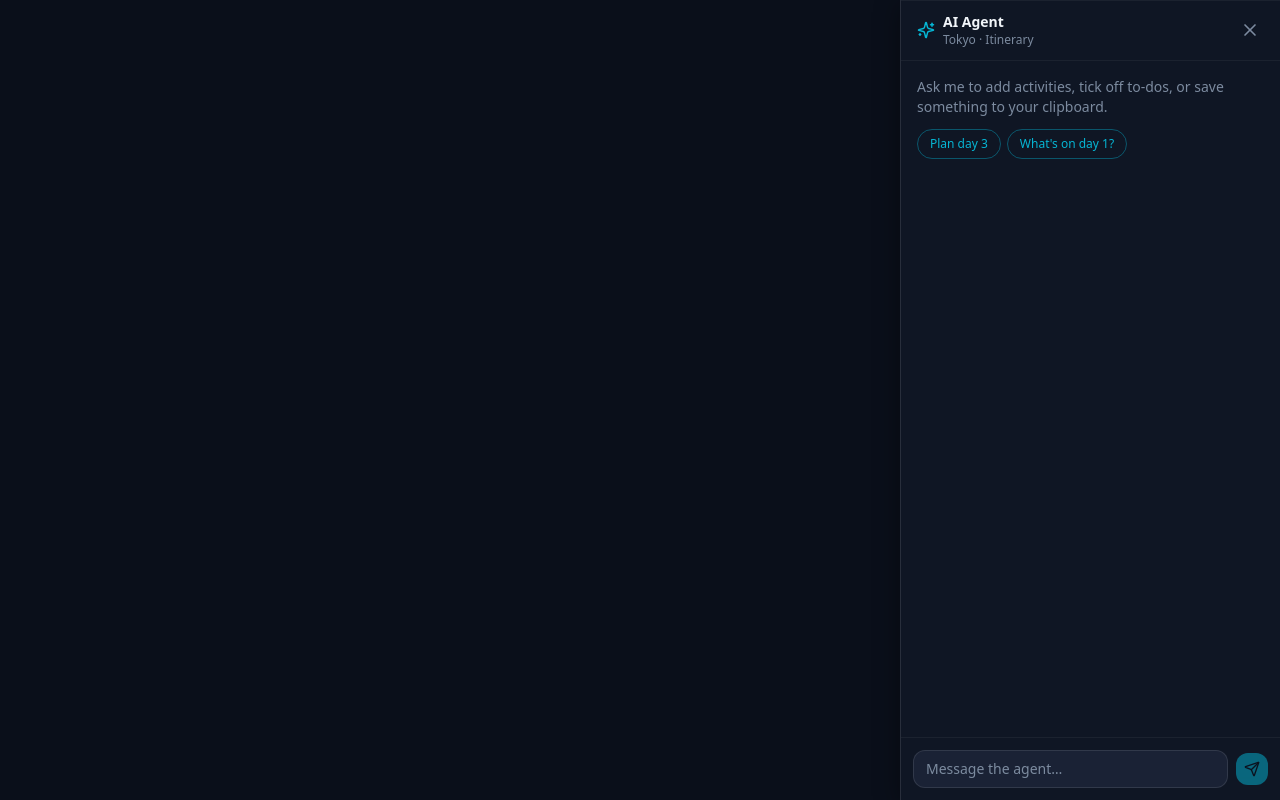
Test: AI agent chat — actions › feeds a read tool result back and shows the model's answer, not the data
The image size is (1280, 800).
Type "what's my hotel confirmation number?" into the field with test id "agent-input". click: (1070, 769)
box: left=913, top=750, right=1228, bottom=788
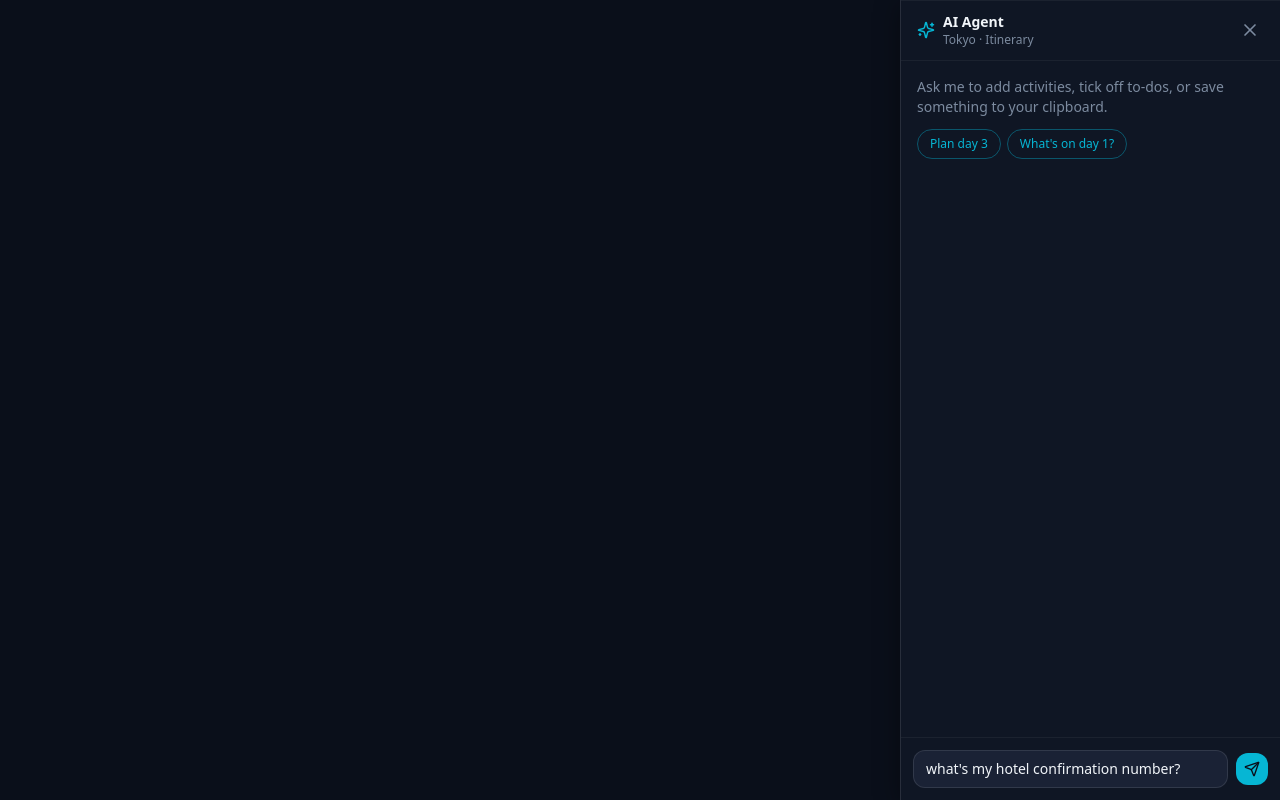
Click the button with test id "agent-send". click: (1252, 769)
box: left=1236, top=753, right=1268, bottom=785
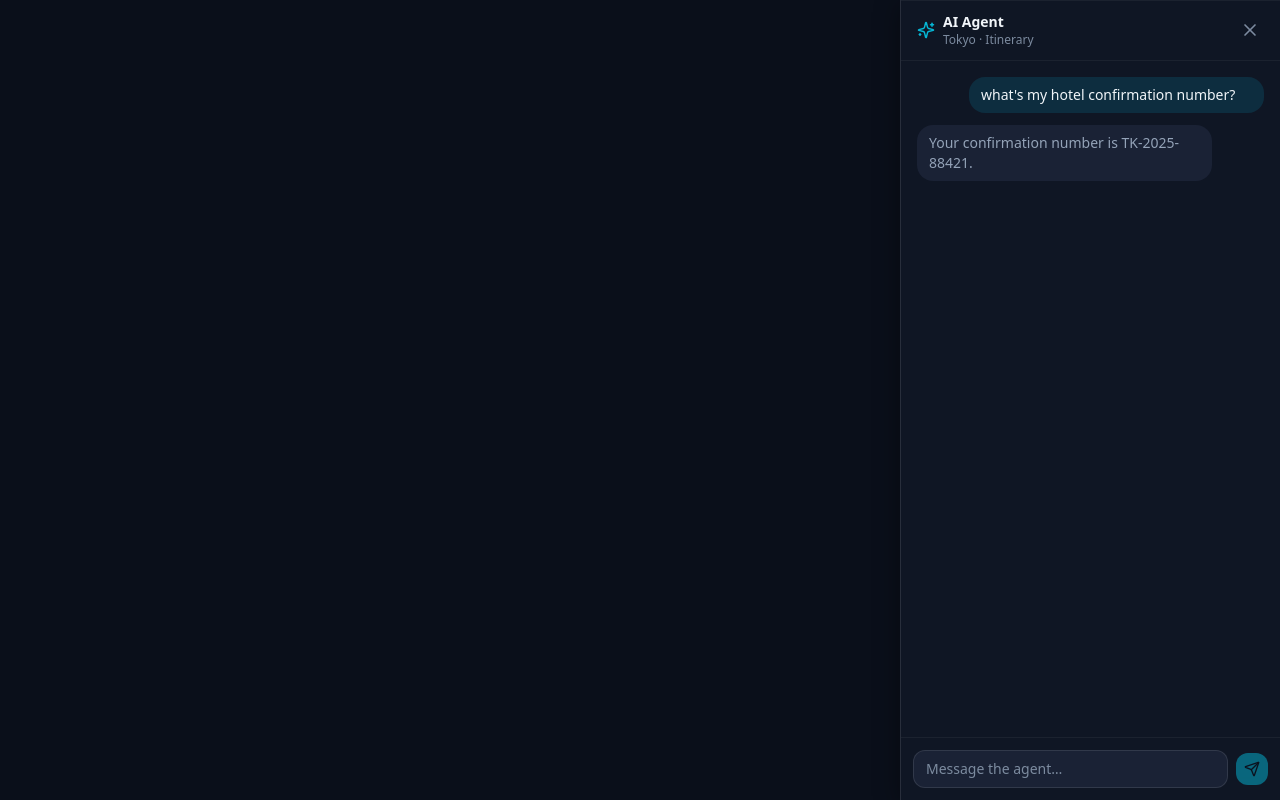
Now the text "Your confirmation number is TK-2025-88421." is shown, box left=929, top=133, right=1200, bottom=173
